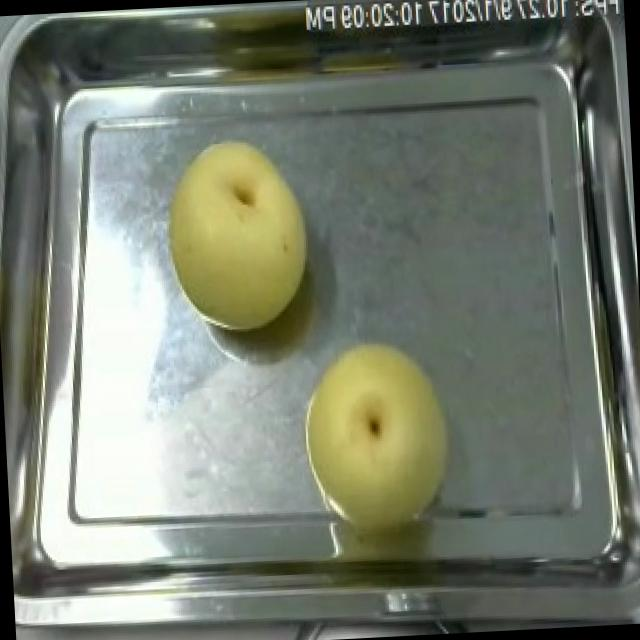Fruit: (152, 127, 323, 340), (289, 328, 465, 534)
